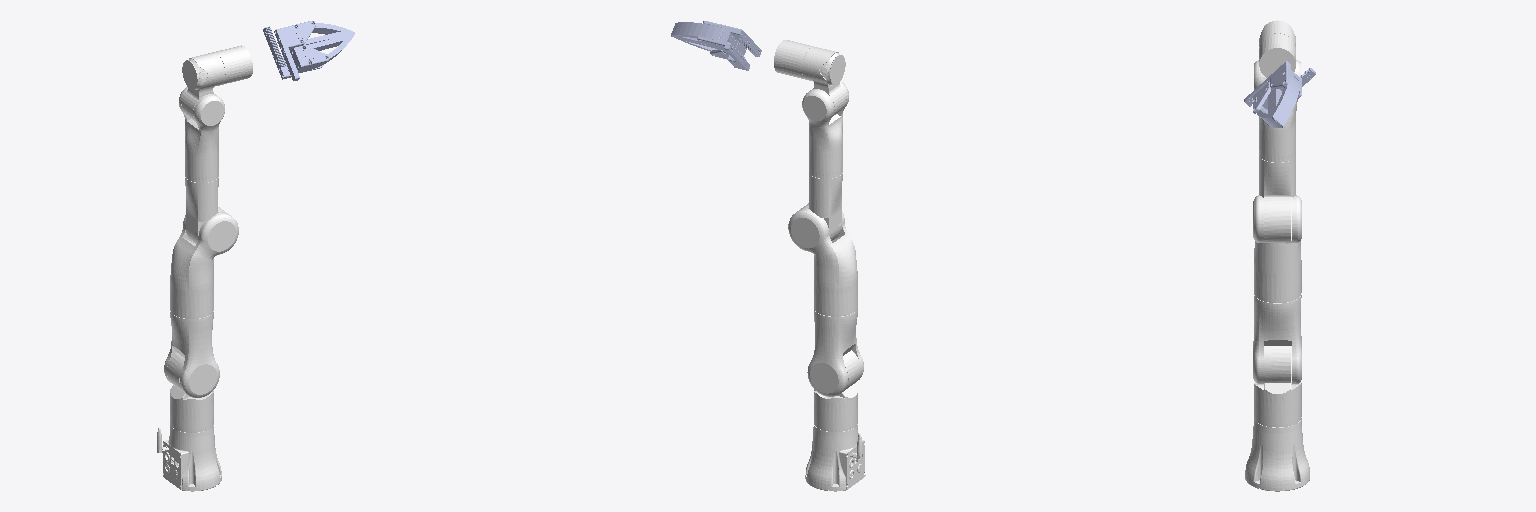
robot.urdf — panda:
<?xml version="1.0" ?>
<!-- =================================================================================== -->
<!-- |    This document was autogenerated by xacro from /opt/ros/noetic/share/franka_description/robots/panda/panda.urdf.xacro | -->
<!-- |    EDITING THIS FILE BY HAND IS NOT RECOMMENDED                                 | -->
<!-- =================================================================================== -->
<robot name="panda">
  <!-- sub-link defining detailed meshes for collision with environment -->
  <link
    name="panda_link0">
    <inertial>
      <origin
        xyz="0.000608631599856789 0.000101410841223995 0.0500536423028974"
        rpy="0 0 0" />
      <mass
        value="0.725732279372378" />
      <inertia
        ixx="0.00116526259312761"
        ixy="3.86984764047093E-06"
        ixz="3.61598634195121E-05"
        iyy="0.00114387939249178"
        iyz="-1.69159565748085E-06"
        izz="0.000799620765266388" />
    </inertial>
    <visual>
      <origin
        xyz="0 0 0"
        rpy="0 0 0" />
      <geometry>
        <mesh
          filename="package://franka_description/robots/meshes_gen/base_link.dae" />
      </geometry>
      <material
        name="">
        <color
          rgba="1 1 1 1" />
      </material>
    </visual>
    <collision>
      <origin
        xyz="0 0 0"
        rpy="0 0 0" />
      <geometry>
        <mesh
          filename="package://franka_description/robots/meshes_gen/base_link.STL" />
      </geometry>
    </collision>
  </link>
  <link
    name="panda_link1">
    <inertial>
      <origin
        xyz="3.54241616240111E-07 -6.0407327765511E-05 -0.0474562076947793"
        rpy="0 0 0" />
      <mass
        value="0.511231576042974" />
      <inertia
        ixx="0.000959440501675413"
        ixy="-1.90967914521862E-09"
        ixz="-7.95751539476377E-09"
        iyy="0.00102039305288465"
        iyz="1.46570590325122E-06"
        izz="0.000388714616194907" />
    </inertial>
    <visual>
      <origin
        xyz="0 0 0"
        rpy="0 0 0" />
      <geometry>
        <mesh
          filename="package://franka_description/robots/meshes_gen/Link1.dae" />
      </geometry>
      <material
        name="">
        <color
          rgba="1 1 1 1" />
      </material>
    </visual>
    <collision>
      <origin
        xyz="0 0 0"
        rpy="0 0 0" />
      <geometry>
        <mesh
          filename="package://franka_description/robots/meshes_gen/Link1.STL" />
      </geometry>
    </collision>
  </link>
  <joint
    name="panda_joint1"
    type="revolute">
    <origin
      xyz="0 0 0.218"
      rpy="0 0 0" />
    <parent
      link="panda_link0" />
    <child
      link="panda_link1" />
    <axis
      xyz="0 0 1" />
    <limit
      lower="-3.0014"
      upper="3.0014"
      effort="25"
      velocity="3.141" />
  </joint>
  <link
    name="panda_link2">
    <inertial>
      <origin
        xyz="-7.09647952406739E-07 -0.0576246216953338 -3.88440270542586E-05"
        rpy="0 0 0" />
      <mass
        value="0.551907023014854" />
      <inertia
        ixx="0.00142140348660833"
        ixy="-1.11203318362369E-08"
        ixz="1.36371990293752E-08"
        iyy="0.00052571427239726"
        iyz="1.30499471891358E-06"
        izz="0.00127234961251408" />
    </inertial>
    <visual>
      <origin
        xyz="0 0 0"
        rpy="0 0 0" />
      <geometry>
        <mesh
          filename="package://franka_description/robots/meshes_gen/Link2.dae" />
      </geometry>
      <material
        name="">
        <color
          rgba="1 1 1 1" />
      </material>
    </visual>
    <collision>
      <origin
        xyz="0 0 0"
        rpy="0 0 0" />
      <geometry>
        <mesh
          filename="package://franka_description/robots/meshes_gen/Link2.STL" />
      </geometry>
    </collision>
  </link>
  <joint
    name="panda_joint2"
    type="revolute">
    <origin
      xyz="0 0 0"
      rpy="-1.5708 0 0" />
    <parent
      link="panda_link1" />
    <child
      link="panda_link2" />
    <axis
      xyz="0 0 1" />
    <limit
      lower="-1.8323"
      upper="1.8323"
      effort="25"
      velocity="3.141" />
  </joint>
  <link
    name="panda_link3">
    <inertial>
      <origin
        xyz="0.00897441376214204 2.62633968732461E-05 -0.07382847021305"
        rpy="0 0 0" />
      <mass
        value="0.774130450031718" />
      <inertia
        ixx="0.00242102073961794"
        ixy="-6.22596416744426E-07"
        ixz="-0.000489521447339786"
        iyy="0.00248694314969312"
        iyz="-1.48542895560703E-06"
        izz="0.000900997189719803" />
    </inertial>
    <visual>
      <origin
        xyz="0 0 0"
        rpy="0 0 0" />
      <geometry>
        <mesh
          filename="package://franka_description/robots/meshes_gen/Link3.dae" />
      </geometry>
      <material
        name="">
        <color
          rgba="1 1 1 1" />
      </material>
    </visual>
    <collision>
      <origin
        xyz="0 0 0"
        rpy="0 0 0" />
      <geometry>
        <mesh
          filename="package://franka_description/robots/meshes_gen/Link3.STL" />
      </geometry>
    </collision>
  </link>
  <joint
    name="panda_joint3"
    type="revolute">
    <origin
      xyz="0 -0.28 0"
      rpy="1.5708 0 0" />
    <parent
      link="panda_link2" />
    <child
      link="panda_link3" />
    <axis
      xyz="0 0 1" />
    <limit
      lower="-3.0014"
      upper="3.0014"
      effort="25"
      velocity="3.141" />
  </joint>
  <link
    name="panda_link4">
    <inertial>
      <origin
        xyz="-0.00962438865086499 0.0352034287339324 0.000174576348464699"
        rpy="0 0 0" />
      <mass
        value="0.437130215853825" />
      <inertia
        ixx="0.000866914153248162"
        ixy="0.000148761646913658"
        ixz="-7.42553547352418E-07"
        iyy="0.000267753002587659"
        iyz="2.68058265485487E-06"
        izz="0.000952324298928136" />
    </inertial>
    <visual>
      <origin
        xyz="0 0 0"
        rpy="0 0 0" />
      <geometry>
        <mesh
          filename="package://franka_description/robots/meshes_gen/Link4.dae" />
      </geometry>
      <material
        name="">
        <color
          rgba="1 1 1 1" />
      </material>
    </visual>
    <collision>
      <origin
        xyz="0 0 0"
        rpy="0 0 0" />
      <geometry>
        <mesh
          filename="package://franka_description/robots/meshes_gen/Link4.STL" />
      </geometry>
    </collision>
  </link>
  <joint
    name="panda_joint4"
    type="revolute">
    <origin
      xyz="0.04 0 0"
      rpy="1.5708 0 0" />
    <parent
      link="panda_link3" />
    <child
      link="panda_link4" />
    <axis
      xyz="0 0 1" />
    <limit
      lower="-2.8792"
      upper="0.9597"
      effort="25"
      velocity="3.141" />
  </joint>
  <link
    name="panda_link5">
    <inertial>
      <origin
        xyz="-4.77956518807332E-07 -3.84737693792594E-05 -0.066955487820054"
        rpy="0 0 0" />
      <mass
        value="0.424276753764529" />
      <inertia
        ixx="0.0011244489011316"
        ixy="7.5662322019411E-09"
        ixz="-1.71276249932628E-08"
        iyy="0.00103382374928123"
        iyz="8.24694417478756E-07"
        izz="0.000274640088277484" />
    </inertial>
    <visual>
      <origin
        xyz="0 0 0"
        rpy="0 0 0" />
      <geometry>
        <mesh
          filename="package://franka_description/robots/meshes_gen/Link5.dae" />
      </geometry>
      <material
        name="">
        <color
          rgba="1 1 1 1" />
      </material>
    </visual>
    <collision>
      <origin
        xyz="0 0 0"
        rpy="0 0 0" />
      <geometry>
        <mesh
          filename="package://franka_description/robots/meshes_gen/Link5.STL" />
      </geometry>
    </collision>
  </link>
  <joint
    name="panda_joint5"
    type="revolute">
    <origin
      xyz="-0.019 0.2525 0"
      rpy="-1.5708 0 0" />
    <parent
      link="panda_link4" />
    <child
      link="panda_link5" />
    <axis
      xyz="0 0 1" />
    <limit
      lower="-3.0014"
      upper="3.0014"
      effort="5"
      velocity="3.926" />
  </joint>
  <link
    name="panda_link6">
    <inertial>
      <origin
        xyz="0.00184221861298974 0.0379763265035087 -9.21090904324278E-05"
        rpy="0 0 0" />
      <mass
        value="0.302793039332829" />
      <inertia
        ixx="0.00014011480503376"
        ixy="-3.00204828273403E-06"
        ixz="-4.58155498966787E-10"
        iyy="0.000132631402640971"
        iyz="7.01344540253995E-10"
        izz="0.000155721320872423" />
    </inertial>
    <visual>
      <origin
        xyz="0 0 0"
        rpy="0 0 0" />
      <geometry>
        <mesh
          filename="package://franka_description/robots/meshes_gen/Link6.dae" />
      </geometry>
      <material
        name="">
        <color
          rgba="1 1 1 1" />
      </material>
    </visual>
    <collision>
      <origin
        xyz="0 0 0"
        rpy="0 0 0" />
      <geometry>
        <mesh
          filename="package://franka_description/robots/meshes_gen/Link6.STL" />
      </geometry>
    </collision>
  </link>
  <joint
    name="panda_joint6"
    type="revolute">
    <origin
      xyz="0 0 0"
      rpy="1.5708 0 0" />
    <parent
      link="panda_link5" />
    <child
      link="panda_link6" />
    <axis
      xyz="0 0 1" />
    <limit
      lower="-1.707"
      upper="1.783"
      effort="5"
      velocity="3.926" />
  </joint>
  <link
    name="panda_link7">
    <inertial>
      <origin
        xyz="0.000199884675729955 -4.25081843764018E-08 -0.0292498694019246"
        rpy="0 0 0" />
      <mass
        value="0.176612671882913" />
      <inertia
        ixx="6.24281233883421E-05"
        ixy="2.55814128580721E-10"
        ixz="-3.1014379202721E-12"
        iyy="6.24291486534025E-05"
        iyz="1.37181281239386E-11"
        izz="8.48642555354654E-05" />
    </inertial>
    <visual>
      <origin
        xyz="0 0 0"
        rpy="0 0 0" />
      <geometry>
        <mesh
          filename="package://franka_description/robots/meshes_gen/Link7.dae" />
      </geometry>
      <material
        name="">
        <color
          rgba="1 1 1 1" />
      </material>
    </visual>
    <collision>
      <origin
        xyz="0 0 0"
        rpy="0 0 0" />
      <geometry>
        <mesh
          filename="package://franka_description/robots/meshes_gen/Link7.STL" />
      </geometry>
    </collision>
  </link>
  <joint
    name="panda_join7"
    type="revolute">
    <origin
      xyz="0.0905 0.067 0"
      rpy="1.5708 0 1.5708" />
    <parent
      link="panda_link6" />
    <child
      link="panda_link7" />
    <axis
      xyz="0 0 1" />
    <limit
      lower="-3.0014"
      upper="3.0014"
      effort="5"
      velocity="3.926" />
  </joint>
  <!-- <link name="panda_link8"/>
  <joint name="panda_joint8" type="fixed">
    <origin rpy="0 0 0" xyz="0 0 0.107"/>
    <parent link="panda_link7"/>
    <child link="panda_link8"/>
  </joint> -->
  <!-- sub-link defining detailed meshes for collision with environment -->
  <!-- Panda hand -->
  <joint name="panda_hand_joint" type="fixed">
    <parent link="panda_link7"/>
    <child link="panda_hand"/>
    <origin rpy="0 0 -0.785398163397" xyz="0 0 0"/>
  </joint>

  <link
    name="panda_hand">
    <inertial>
      <origin
        xyz="0.000590732710131745 -0.00212482055829597 0.0390711121564613"
        rpy="0 0 0" />
      <mass
        value="0.410076712822003" />
      <inertia
        ixx="0.000490743093860451"
        ixy="8.88694180287399E-06"
        ixz="-4.40788336869861E-07"
        iyy="0.000921185312665057"
        iyz="3.47120316959879E-05"
        izz="0.00085013675383108" />
    </inertial>
    <visual>
      <origin
        xyz="0 0 0"
        rpy="0 0 0" />
      <geometry>
        <mesh
          filename="package://franka_description/robots/Gripper/meshes/panda_hand.dae" />
      </geometry>
      <material
        name="">
        <color
          rgba="0.749019607843137 0.749019607843137 0.749019607843137 1" />
      </material>
    </visual>
    <collision>
      <origin
        xyz="0 0 0"
        rpy="0 0 0" />
      <geometry>
        <mesh
          filename="package://franka_description/robots/Gripper/meshes/panda_hand.stl" />
      </geometry>
    </collision>
  </link>
  <link
    name="panda_leftfinger">
    <inertial>
      <origin
        xyz="-0.14078 0.018679 0.052776"
        rpy="0 0 0" />
      <mass
        value="0.11401" />
      <inertia
        ixx="7.9791E-05"
        ixy="-1.4328E-07"
        ixz="-6.9009E-06"
        iyy="9.604E-05"
        iyz="1.6264E-08"
        izz="3.962E-05" />
    </inertial>
    <visual>
      <origin
        xyz="0 0 0"
        rpy="0 0 0" />
      <geometry>
        <mesh
          filename="package://franka_description/robots/Gripper/meshes/Left_Gripper.dae" />
      </geometry>
      <material
        name="">
        <color
          rgba="0.79216 0.81961 0.93333 1" />
      </material>
    </visual>
    <collision>
      <origin
        xyz="-0.145 0.0154 0.08"
        rpy="0 0 0" />
      <geometry>
        <box size="4e-2 3.5e-2 13.5e-2"/>
      </geometry>
    </collision>
  </link>
  <joint
    name="LG"
    type="prismatic">
    <origin
      xyz="0.125 -0.02241 0.0801"
      rpy="0 0 0" />
    <parent
      link="panda_hand" />
    <child
      link="panda_leftfinger" />
    <axis
      xyz="-1 0 0" />
    <limit
      lower="0"
      upper="0.055"
      effort="10"
      velocity="0.1" />
  </joint>
  <link
    name="panda_rightfinger">
    <inertial>
      <origin
        xyz="-0.14059 0.0092217 0.053953"
        rpy="0 0 0" />
      <mass
        value="0.11017" />
      <inertia
        ixx="7.7997E-05"
        ixy="-1.4178E-07"
        ixz="-6.9009E-06"
        iyy="9.5588E-05"
        iyz="9.38E-09"
        izz="3.7415E-05" />
    </inertial>
    <visual>
      <origin
        xyz="0 0 0"
        rpy="0 0 0" />
      <geometry>
        <mesh
          filename="package://franka_description/robots/Gripper/meshes/Right_Gripper.dae" />
      </geometry>
      <material
        name="">
        <color
          rgba="0.79216 0.81961 0.93333 1" />
      </material>
    </visual>
    <collision>
      <origin
        xyz="-0.145 0.0154 0.08"
        rpy="0 0 0" />
      <geometry>
        <box size="4e-2 3.5e-2 13.5e-2"/>
      </geometry>
    </collision>
  </link>
  <joint
    name="RG"
    type="prismatic">
    <origin
      xyz="-0.125 0.01159 0.0801"
      rpy="0 0 -3.1416" />
    <parent
      link="panda_hand" />
    <child
      link="panda_rightfinger" />
    <axis
      xyz="-1 0 0" />
    <limit
      lower="0"
      upper="0.055"
      effort="10"
      velocity="0.1" />
  </joint>



  <joint name="k_ee" type="fixed">
    <parent link="panda_hand"/>
    <child link="k_ee_link"/>
    <origin rpy="0 0 0" xyz="0 0 0.103399"/>
  </joint>
  <link name="k_ee_link">
  </link>
</robot>

--- What the picture shows (computed from the rendered views, not written in the file) ---
3 views of the same robot in one strip: view 1: azimuth 30°, elevation 25°; view 2: azimuth 150°, elevation 25°; view 3: azimuth 270°, elevation 25° (orthographic).
Model panda with 12 links and 11 joints (7 revolute, 2 prismatic, 2 fixed), rooted at panda_link0, posed all joints at 0.
Visible links, largest first — view 1: panda_link3, panda_link0, panda_link2, panda_link5, panda_link1, panda_link6, panda_leftfinger, panda_rightfinger, panda_link4, panda_link7; view 2: panda_link3, panda_link0, panda_link2, panda_link5, panda_link1, panda_link6, panda_rightfinger, panda_link4, panda_link7, panda_leftfinger; view 3: panda_link3, panda_link0, panda_link1, panda_link2, panda_link4, panda_link5, panda_rightfinger, panda_link7, panda_leftfinger.
Boxes of the visible links, x1,y1,x2,y2 form: panda_link3: (170, 213, 238, 318); panda_link0: (157, 425, 221, 491); panda_link2: (164, 311, 219, 397); panda_link5: (179, 87, 224, 182); panda_link1: (167, 352, 213, 432); panda_link6: (182, 52, 224, 121); panda_leftfinger: (263, 26, 354, 79); panda_rightfinger: (274, 21, 354, 80); panda_link4: (185, 177, 227, 243); panda_link7: (215, 45, 252, 84); panda_link3: (788, 209, 857, 316); panda_link0: (805, 424, 865, 491); panda_link2: (807, 309, 863, 396); panda_link5: (802, 81, 848, 178); panda_link1: (814, 350, 860, 431); panda_link6: (802, 47, 845, 116); panda_rightfinger: (671, 21, 761, 56); panda_link4: (800, 173, 842, 240); panda_link7: (774, 40, 813, 79); panda_leftfinger: (671, 36, 749, 70); panda_link3: (1253, 195, 1301, 302); panda_link0: (1245, 417, 1309, 491); panda_link1: (1254, 346, 1301, 427); panda_link2: (1253, 295, 1301, 383); panda_link4: (1259, 156, 1295, 242); panda_link5: (1254, 60, 1300, 162); panda_rightfinger: (1244, 61, 1301, 126); panda_link7: (1259, 33, 1295, 77); panda_leftfinger: (1253, 68, 1315, 127).
Bounding box of the posed robot: 0.4046 × 0.1193 × 0.8596 m (x, y, z).
10 mesh visuals loaded from 11 distinct referenced files (10 Collada DAE); not drawn: 1 (reference not matched to a file when rendering).